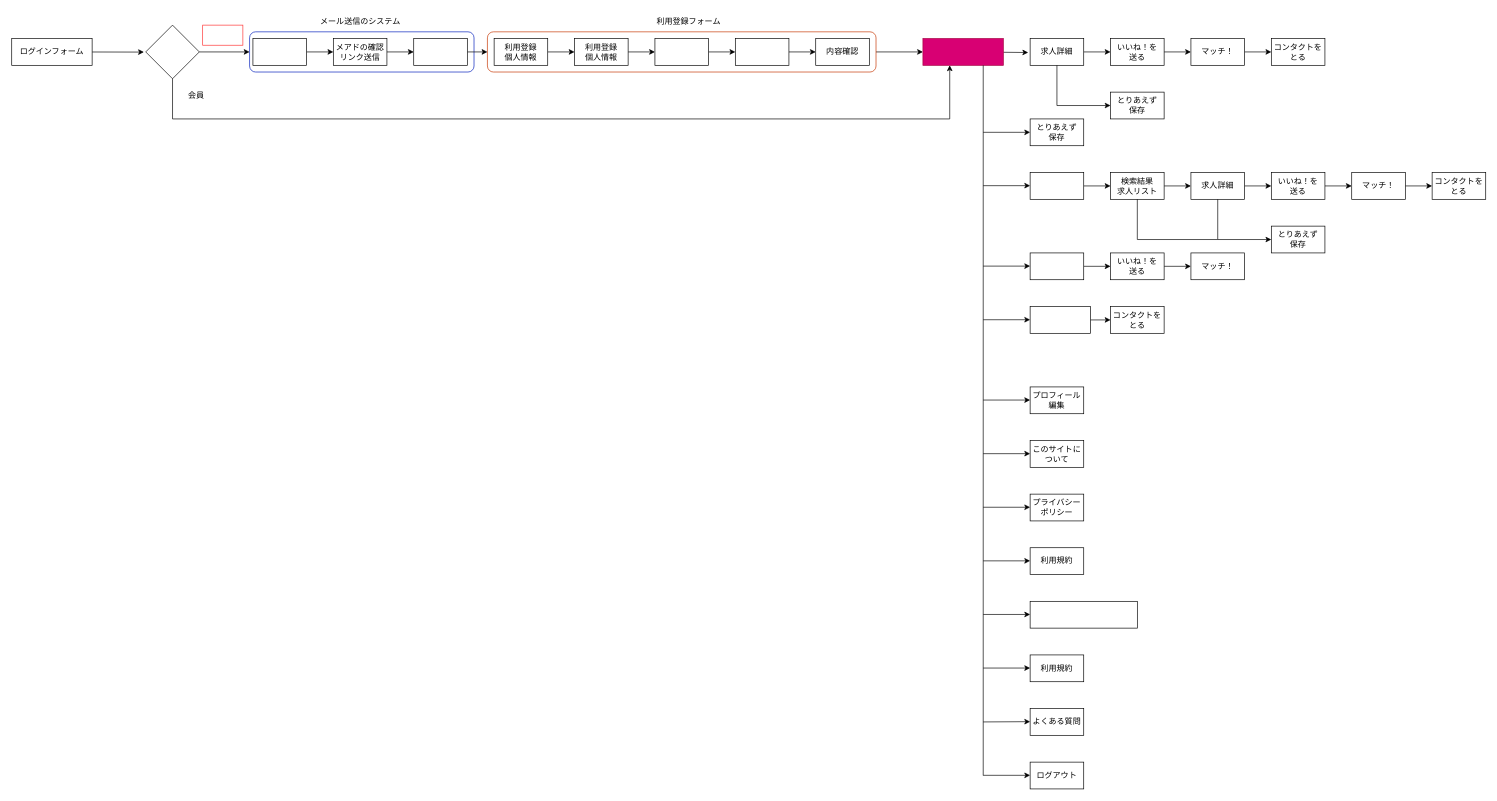
Image size: 1497x801. Some labels were removed from this diagram. The shapes that lost their labels are listed below. From the top down, each one's centre as x and y in pixels, then its label:
At point 172,51: "会員か どうか".
At point 222,34: "非会員".
At point 279,51: "メアドの登録".
At point 440,51: "メアド パスワード ログイン".
At point 681,51: "利用登録 経歴・スキル".
At point 762,51: "利用登録 応募条件等".
At point 962,51: "求人リスト画面 （ホーム）".
At point 1056,185: "求人を さがす".
At point 1056,266: "保存した 求人".
At point 1059,319: "いいね！ した求人リスト".
At point 1083,614: "求人掲載をお考えの企業様へ".
